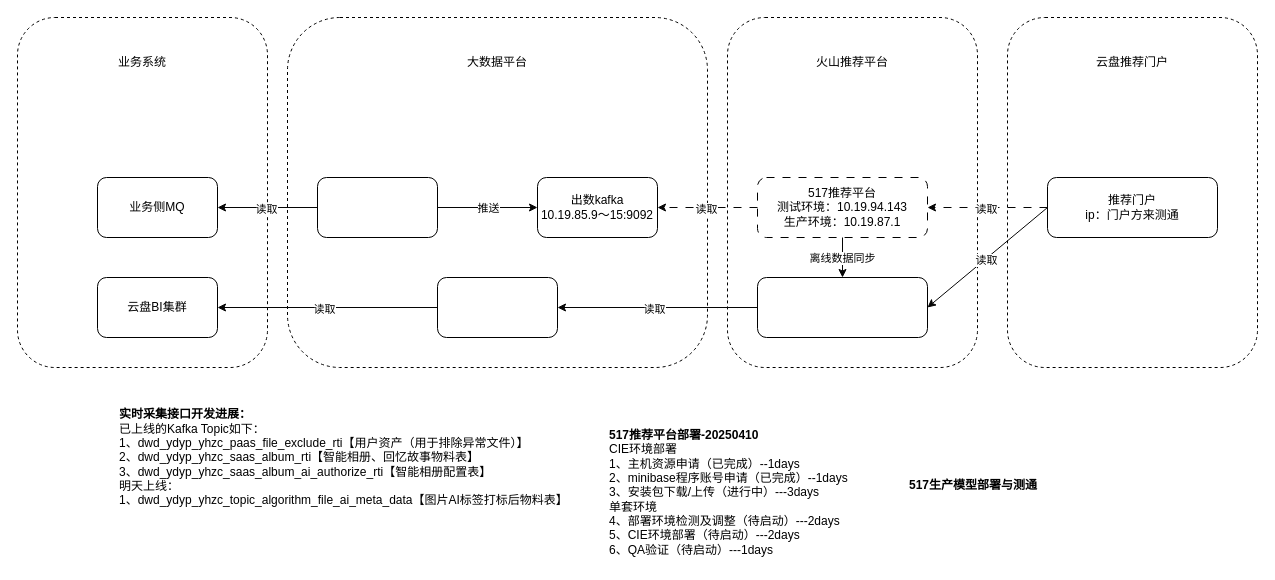
The diagram is 1275 pixels wide and 580 high, and some of its shapes have lost their labels. Each missing label, with the centre of its shape:
330推荐平台 测试环境： 生产环境：: point 842,307
入库kafka: point 377,207
大数据离线集群: point 497,307
